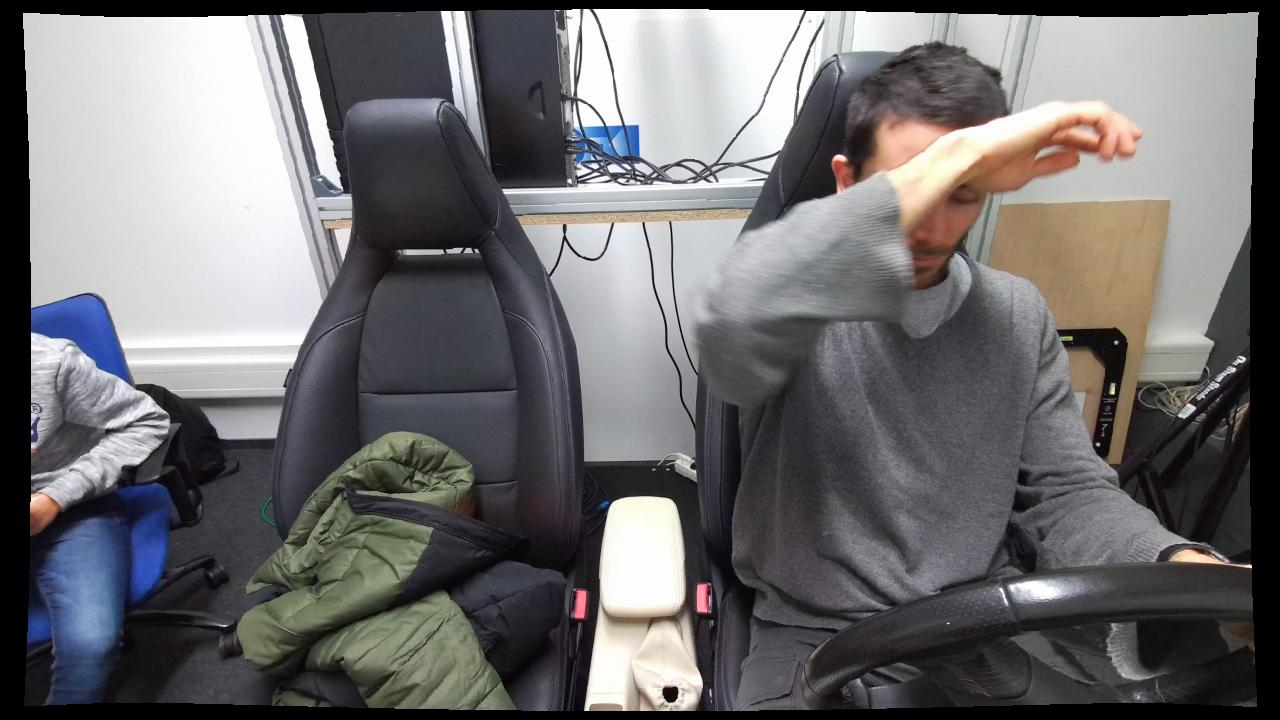Distracted: (686, 40, 1144, 708)
